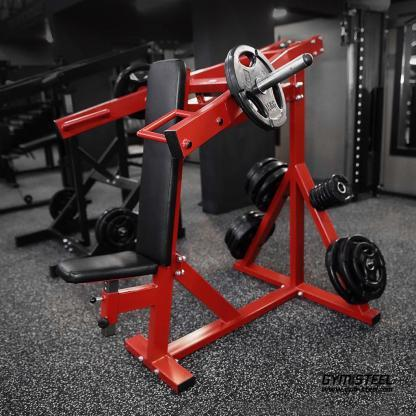shoulder press machine: (48, 29, 393, 392)
